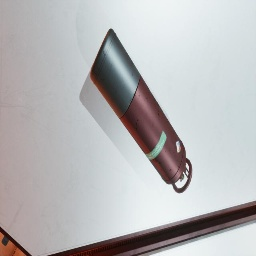NitrogenTank ,: (90, 28, 192, 194)
